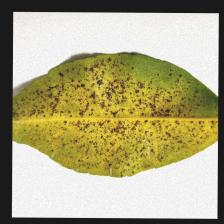canker: (58, 77, 184, 151)
